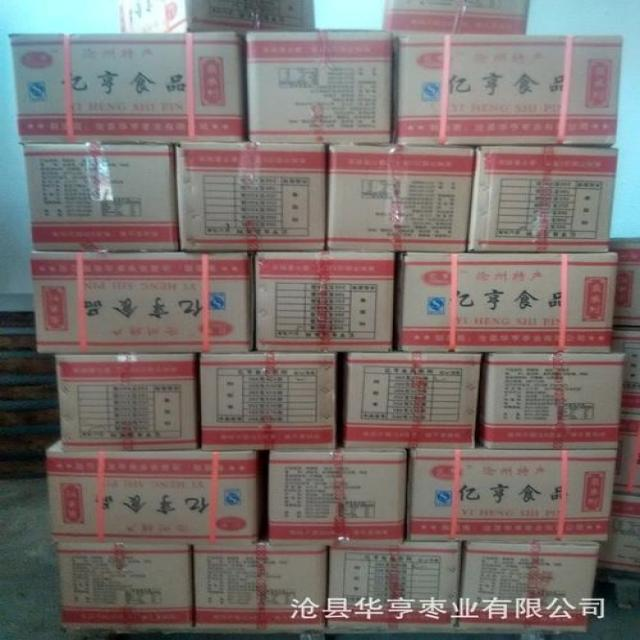box: (8, 32, 248, 143), (393, 35, 623, 146), (28, 250, 253, 353), (394, 251, 617, 352), (45, 440, 261, 544), (406, 449, 618, 543), (22, 142, 179, 250), (244, 30, 393, 143), (173, 142, 326, 250), (325, 143, 474, 251), (467, 145, 618, 251), (256, 449, 408, 545), (253, 250, 397, 351), (54, 352, 200, 451), (477, 352, 626, 449), (338, 352, 484, 450), (198, 351, 342, 450), (457, 541, 604, 633), (192, 534, 328, 632), (56, 541, 193, 630), (328, 540, 461, 631), (118, 0, 315, 41), (384, 0, 530, 41), (600, 493, 640, 575), (611, 237, 640, 329), (613, 327, 640, 414), (614, 413, 640, 495)
